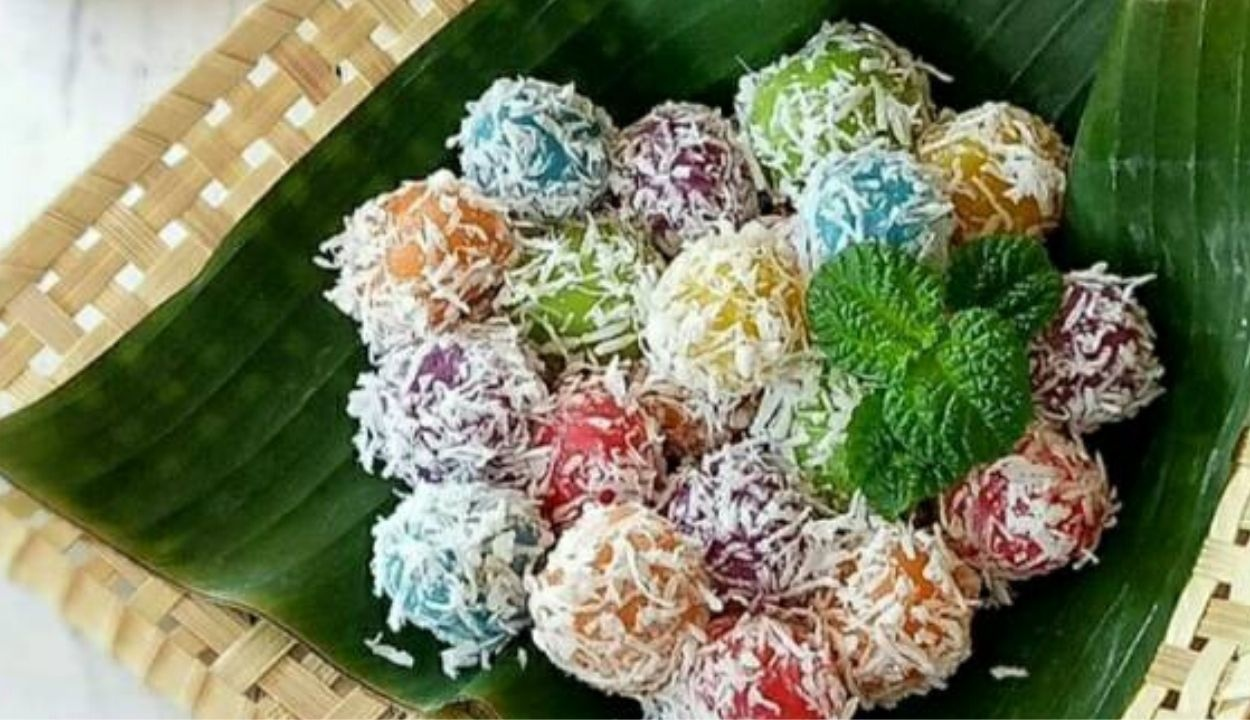klepon: (336, 483, 584, 663), (495, 517, 702, 687), (436, 97, 641, 230)
